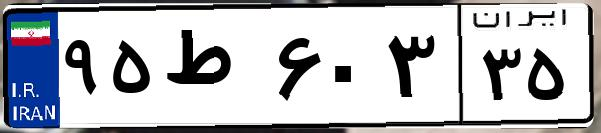0: (330, 28, 385, 110)
3: (385, 28, 445, 110), (475, 38, 525, 113)
5: (525, 38, 570, 115), (110, 28, 158, 98)
6: (270, 28, 330, 110)
9: (57, 26, 110, 100)
ط: (158, 20, 270, 120)
